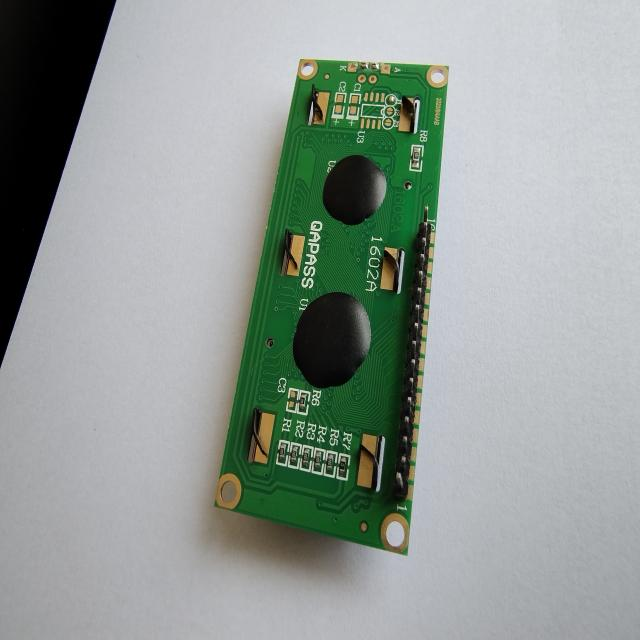lcd: (213, 56, 450, 557)
